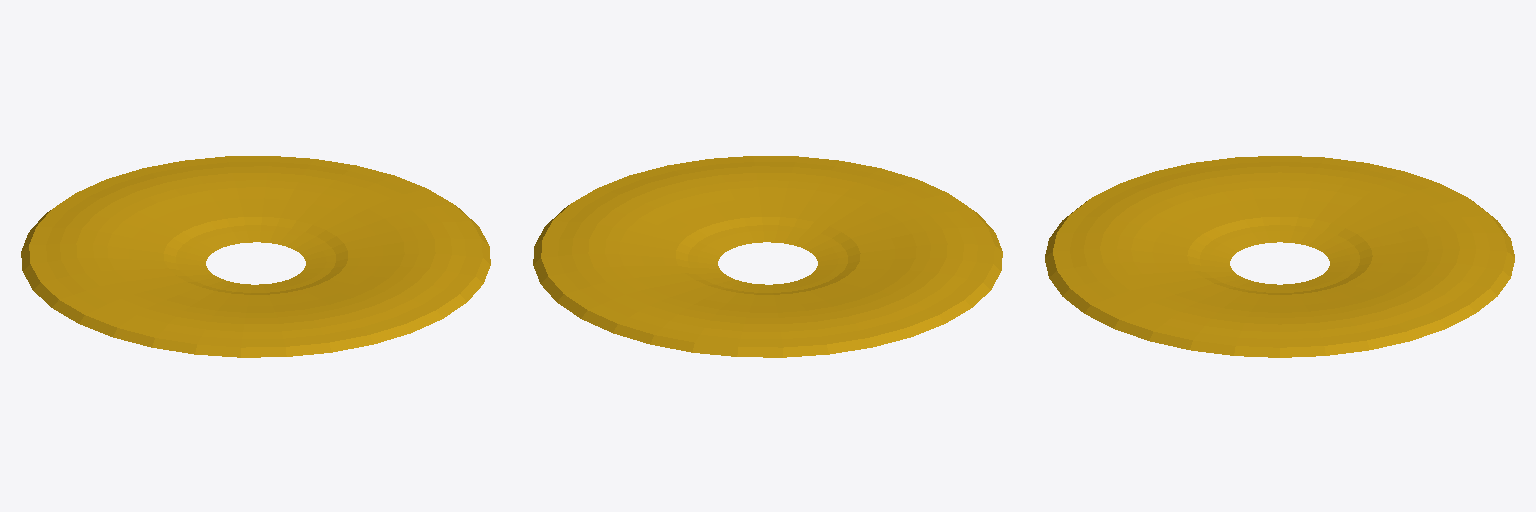
File: meja3-5.obj
3 views of the same model, side by side, from view 1: azimuth 30°, elevation 25°; view 2: azimuth 150°, elevation 25°; view 3: azimuth 270°, elevation 25° (orthographic).
Parts seen in each view (by area): view 1: Cube.079_Cube.354_Cube.079_Cube.001; view 2: Cube.079_Cube.354_Cube.079_Cube.001; view 3: Cube.079_Cube.354_Cube.079_Cube.001.
Part boxes in pixels (bbox=[...]): Cube.079_Cube.354_Cube.079_Cube.001: bbox=[21, 156, 490, 357]; Cube.079_Cube.354_Cube.079_Cube.001: bbox=[533, 156, 1002, 357]; Cube.079_Cube.354_Cube.079_Cube.001: bbox=[1045, 156, 1514, 357].
Size of the model in its own units: 2.98 by 0.1046 by 2.98.